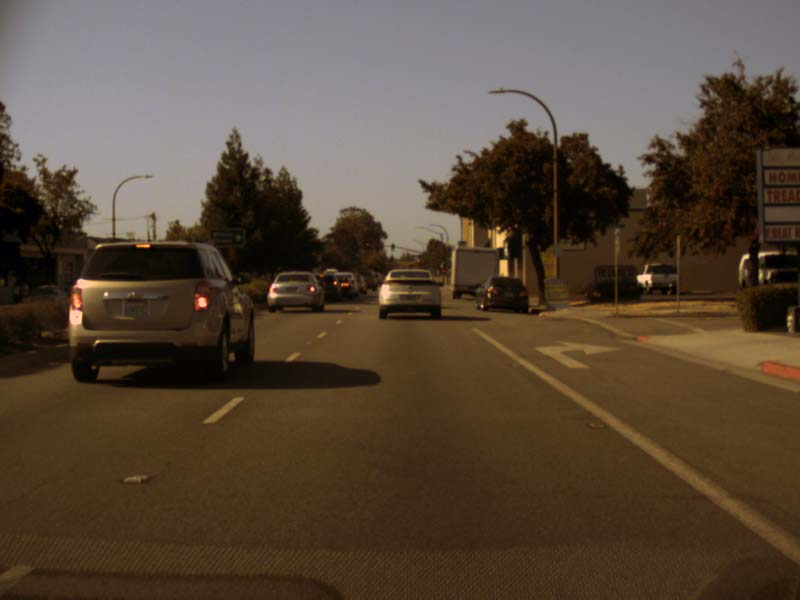Green: (441, 256, 445, 264), (391, 243, 394, 251)
Yellow: (365, 239, 368, 246)
